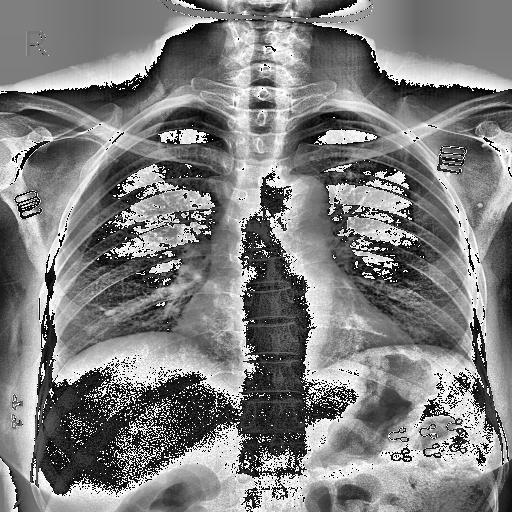0- Aortic enlargement: (264, 176, 328, 234), (267, 172, 330, 222)
3- Cardiomegaly: (168, 295, 414, 361), (172, 304, 416, 358), (174, 308, 405, 346)
8- Nodule-Mass: (102, 308, 116, 316), (476, 202, 484, 208), (396, 144, 404, 150), (117, 214, 123, 220), (114, 158, 120, 162), (309, 156, 315, 160)
